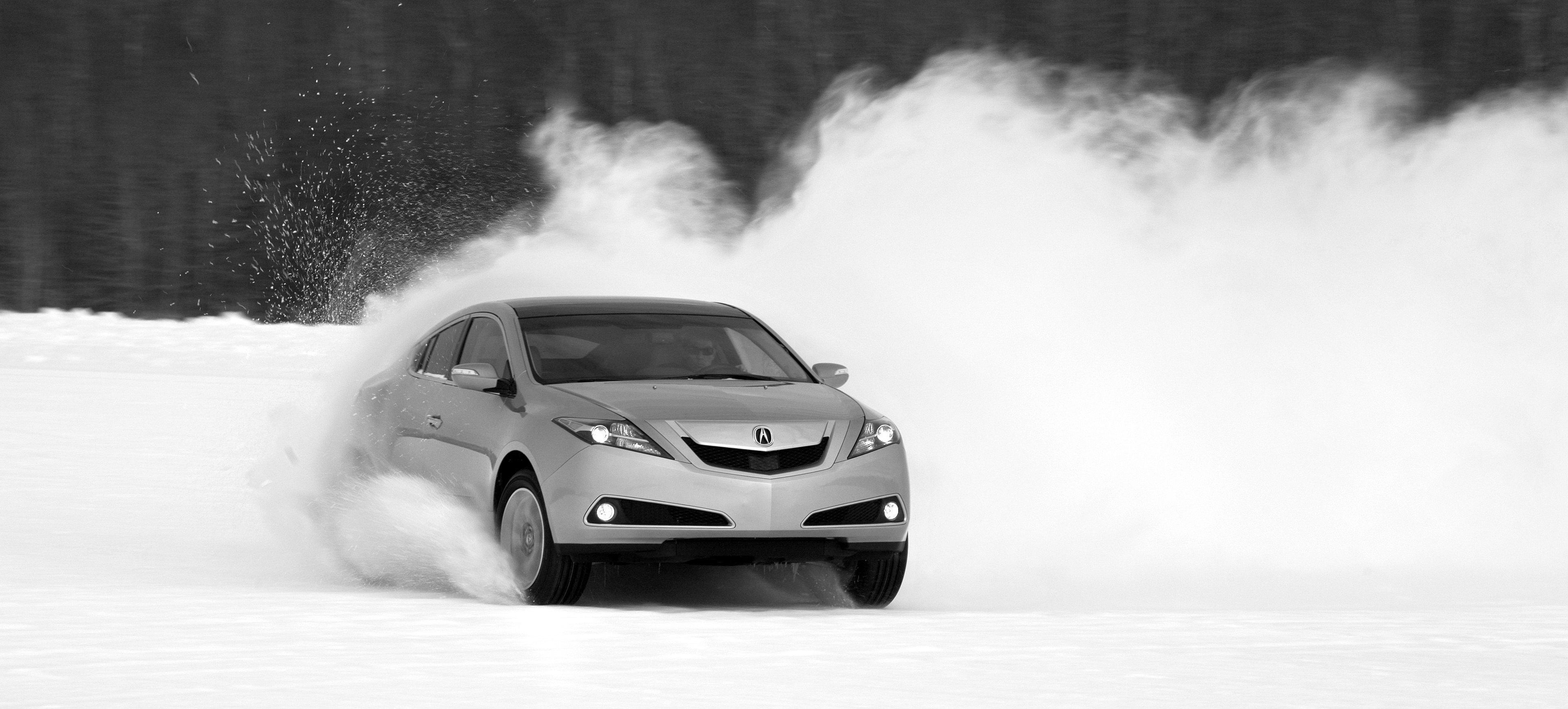car: (353, 301, 913, 611)
